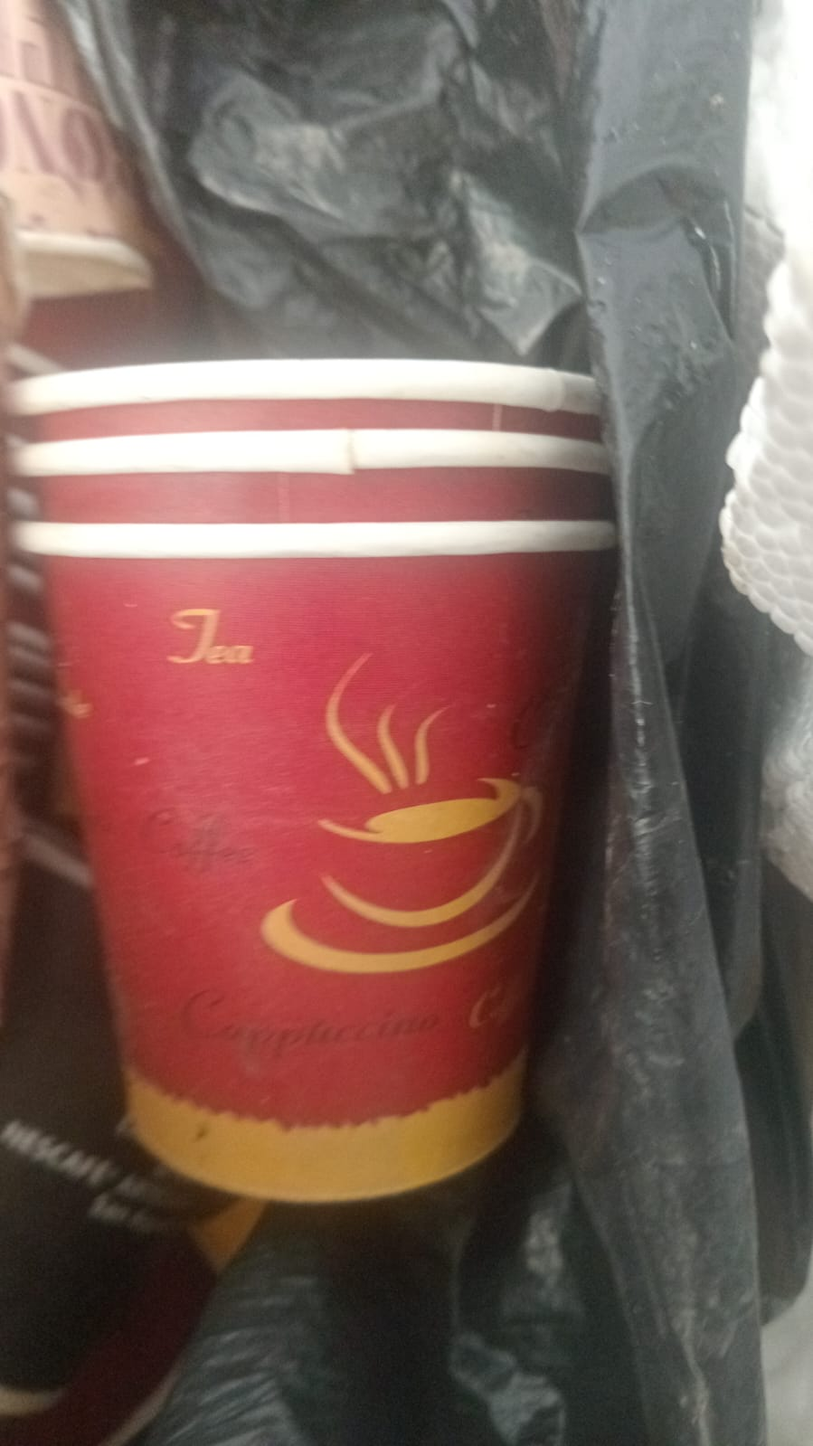Carton: (0, 357, 609, 1208)
